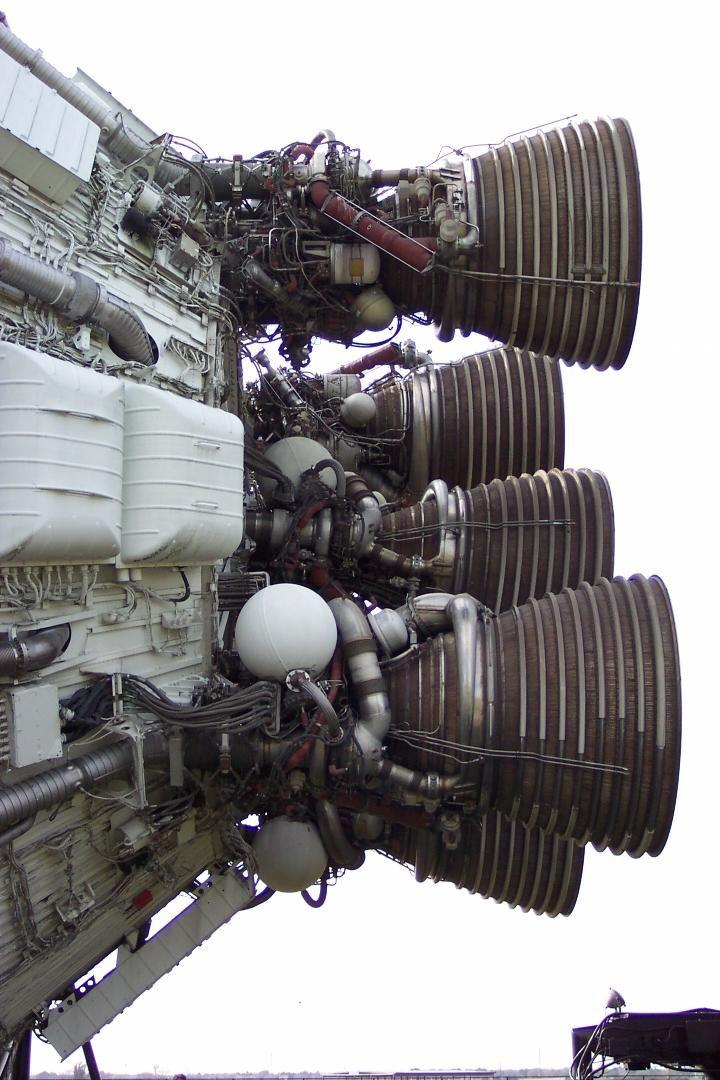thruster: (412, 110, 650, 379), (481, 568, 689, 862), (459, 465, 619, 615), (426, 330, 568, 484), (427, 813, 589, 927)
